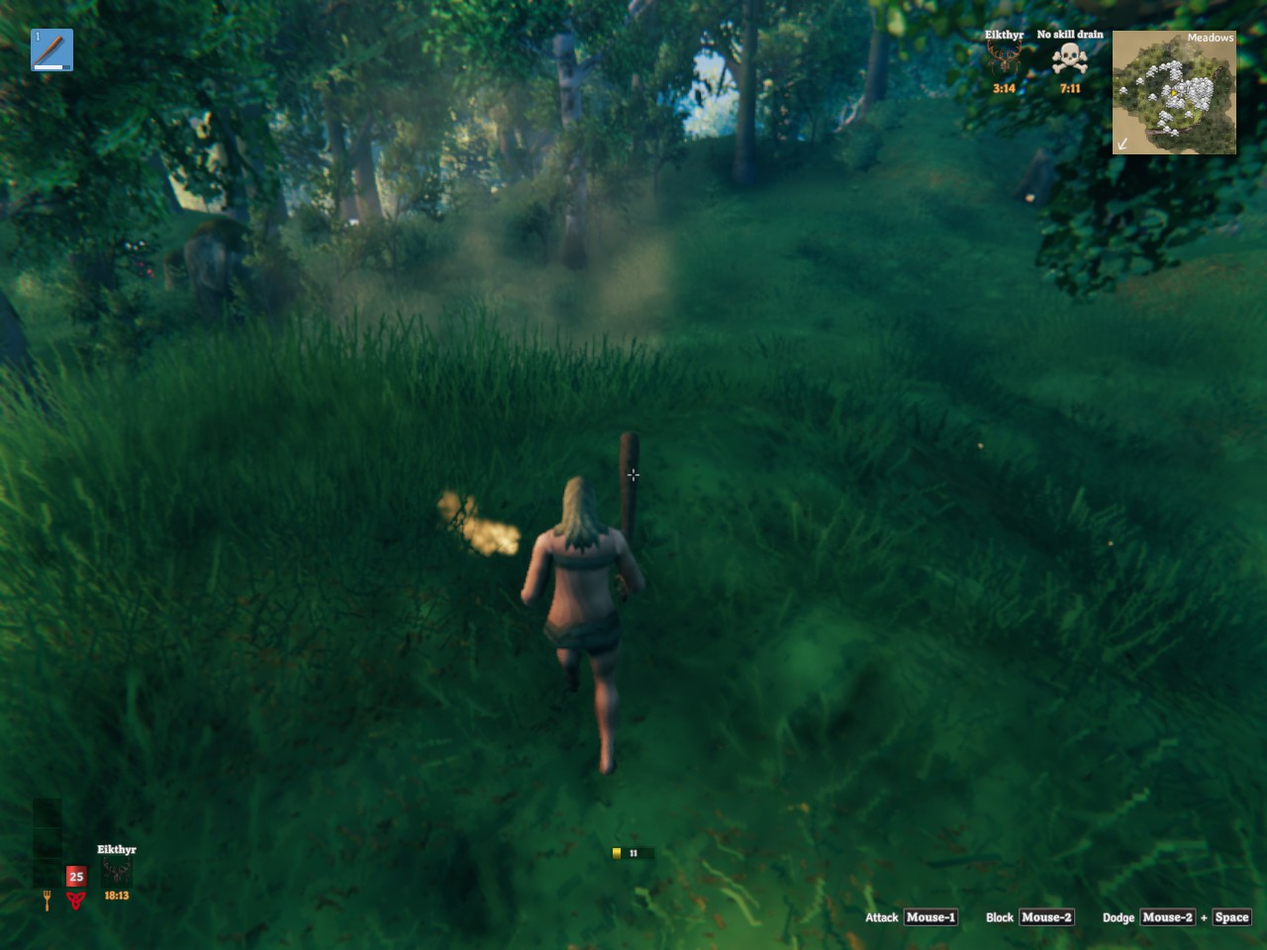Club: (620, 431, 639, 543)
Health Bar: (65, 866, 86, 888)
Hotbar: (31, 29, 73, 72)
Stamina Bar: (613, 848, 654, 859)
